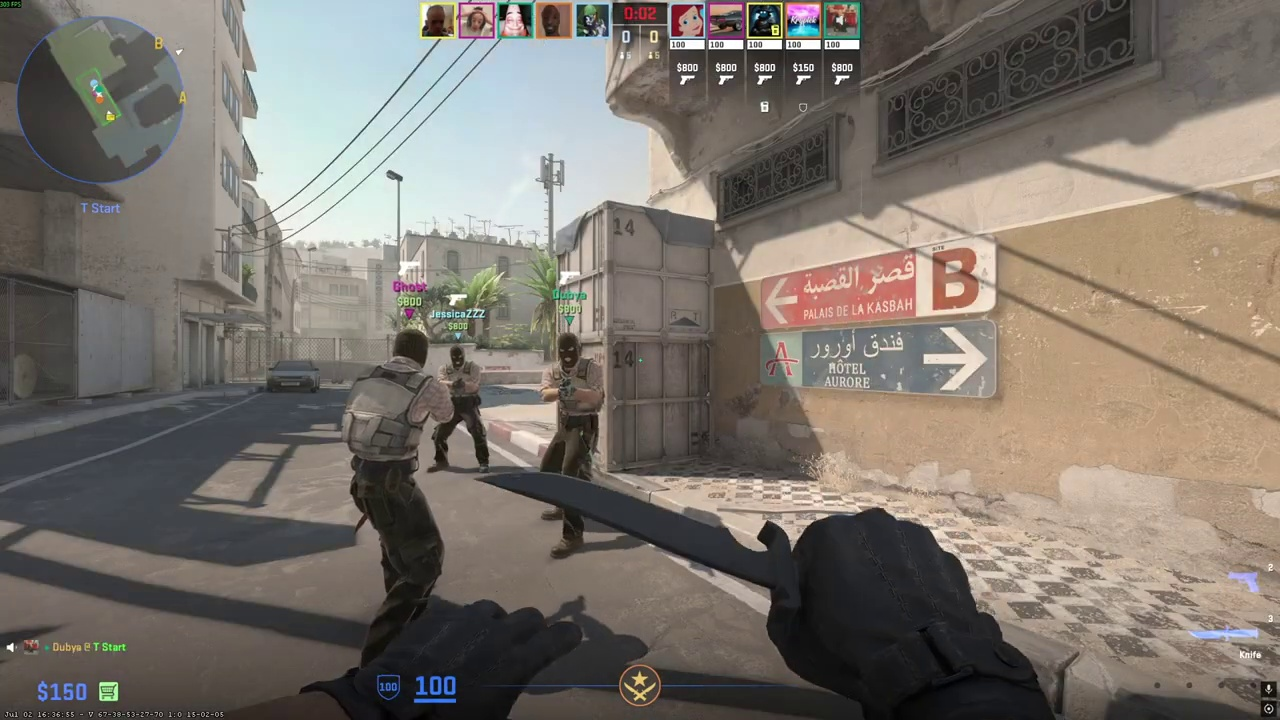Terrorist: (340, 326, 453, 681), (536, 331, 607, 558), (432, 345, 490, 473)
